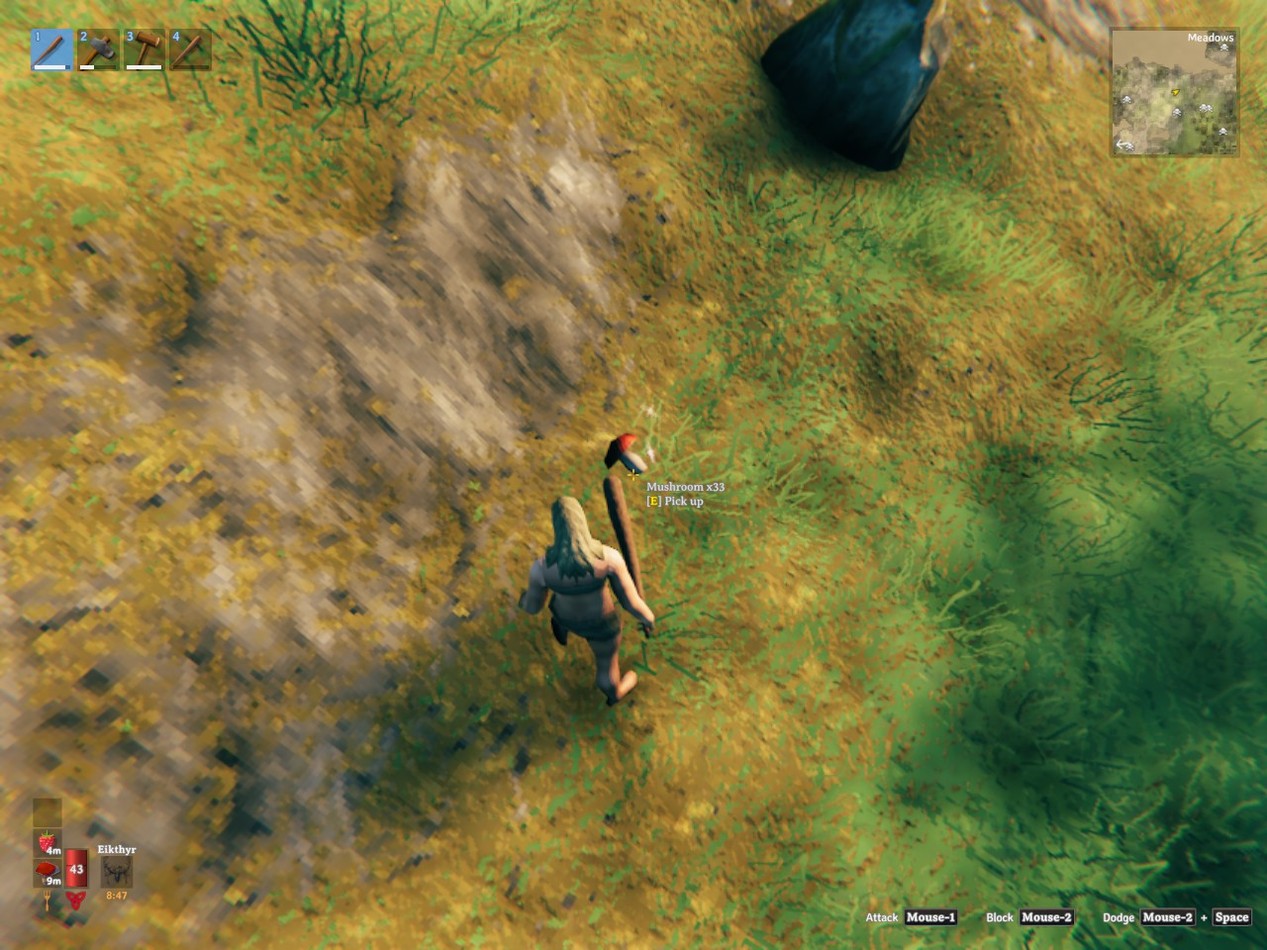Club: (604, 474, 641, 596), (605, 433, 644, 476)
Food Indicator: (36, 829, 63, 891)
Health Bar: (63, 845, 90, 891)
Hotbar: (25, 21, 398, 78)
Mushroom: (605, 433, 644, 473)
